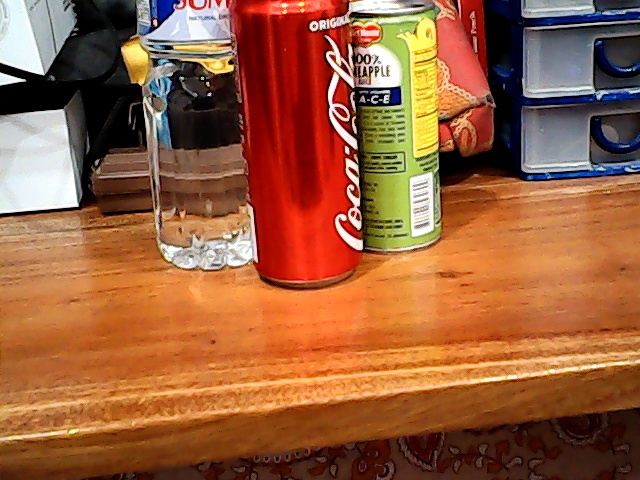Cola: (247, 1, 364, 279)
Pine Juice: (352, 4, 447, 255)
Summit Water: (133, 1, 255, 263)
